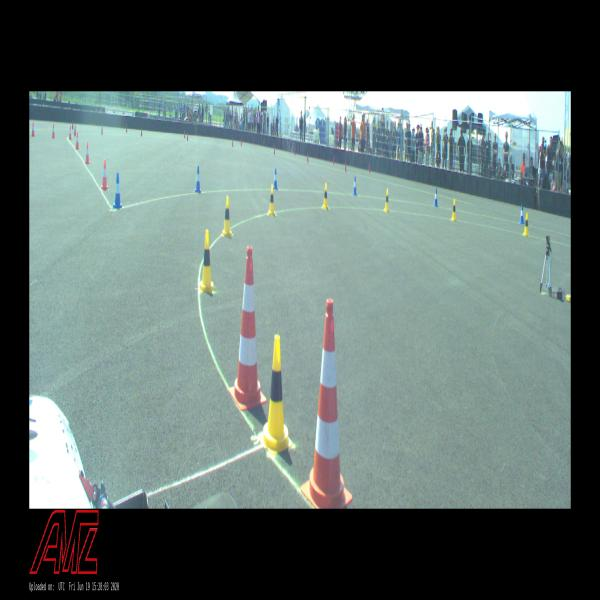blue_cone: (113, 173, 122, 209), (194, 166, 201, 194), (273, 168, 278, 189), (520, 204, 524, 224), (353, 176, 357, 195), (434, 188, 438, 207)
large_orange_cone: (301, 298, 352, 509), (228, 247, 266, 410)
orange_cone: (101, 159, 108, 190), (85, 142, 90, 164), (75, 132, 80, 149), (31, 121, 35, 136), (52, 123, 56, 138), (69, 125, 72, 140)
yellow_cone: (259, 335, 292, 454), (199, 230, 214, 294), (222, 196, 232, 237), (268, 184, 275, 216), (322, 183, 328, 210), (524, 212, 530, 236), (384, 188, 390, 212), (452, 199, 456, 221)
